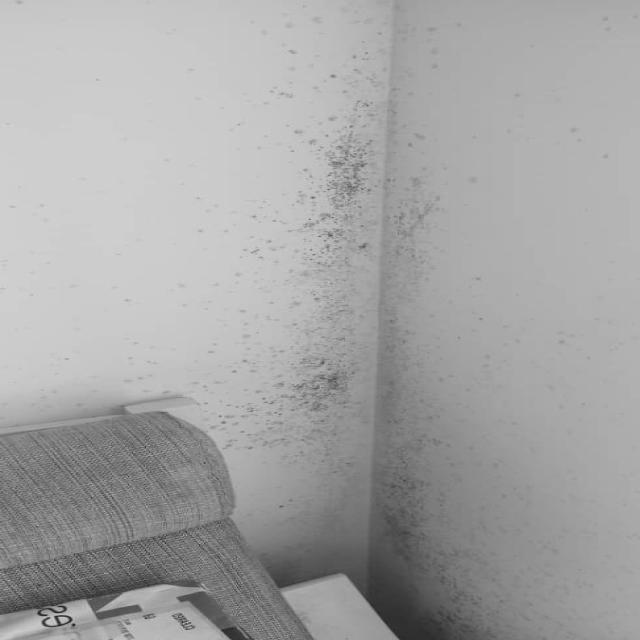stain marks: (164, 0, 640, 636), (0, 0, 160, 416)
